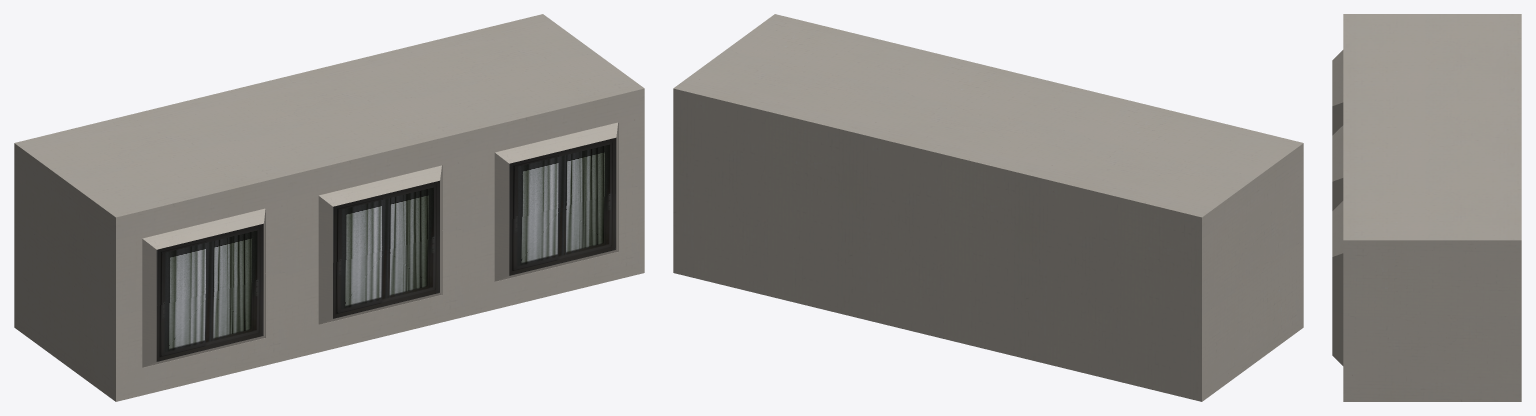
File: WhiteBrick_threeBox_withWindow.fbx
3 renders of one model, left to right at view 1: azimuth 30°, elevation 25°; view 2: azimuth 150°, elevation 25°; view 3: azimuth 270°, elevation 25°, orthographic. The views are drawn at different scales.
Visible parts, largest first — view 1: Cube.003; view 2: Cube.003; view 3: Cube.003.
Part boxes in pixels (<box>): Cube.003: <box>14,14,644,401</box>; Cube.003: <box>673,14,1303,401</box>; Cube.003: <box>1332,14,1521,401</box>.
Bounding box in the file's own units: 600 × 200 × 212.
